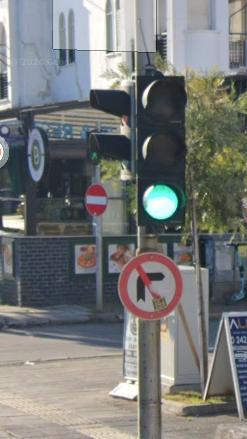greenlight: (137, 72, 186, 233)
rightturnsareforbidden: (120, 254, 180, 322)
